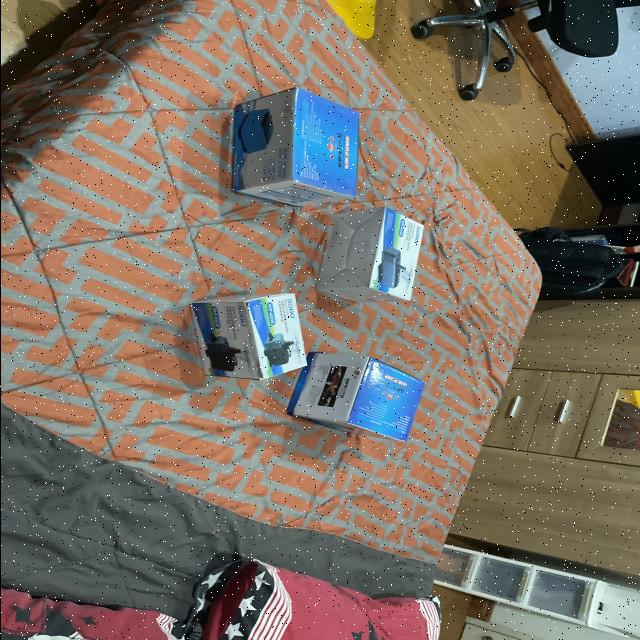SOBO_WP_4200: (190, 280, 318, 396), (312, 205, 448, 308)
YAMANO_LPP_20: (210, 83, 374, 211), (284, 346, 444, 452)
